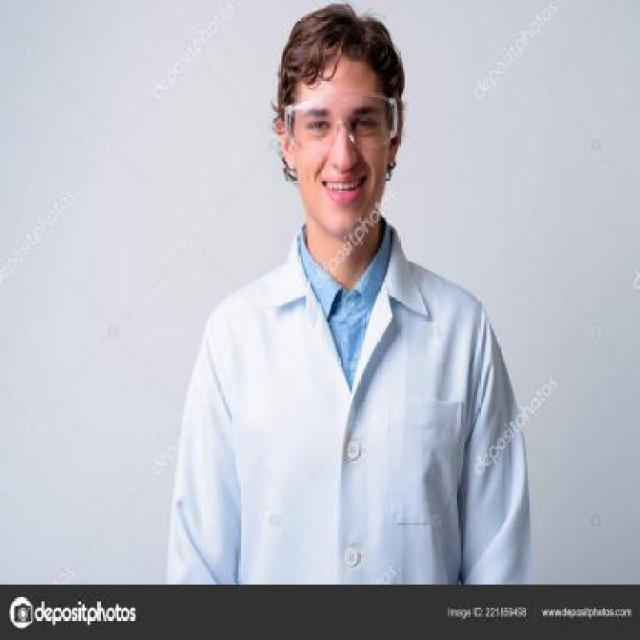face_nomask: (293, 104, 399, 210)
glasses: (278, 90, 398, 155)
head_nohelmet: (283, 1, 394, 84)
person: (184, 15, 539, 583)
